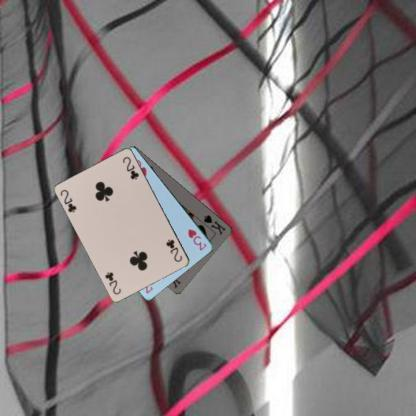2c: (58, 186, 78, 214), (164, 237, 184, 263)
3h: (185, 226, 208, 252)
Ks: (201, 212, 227, 236)
